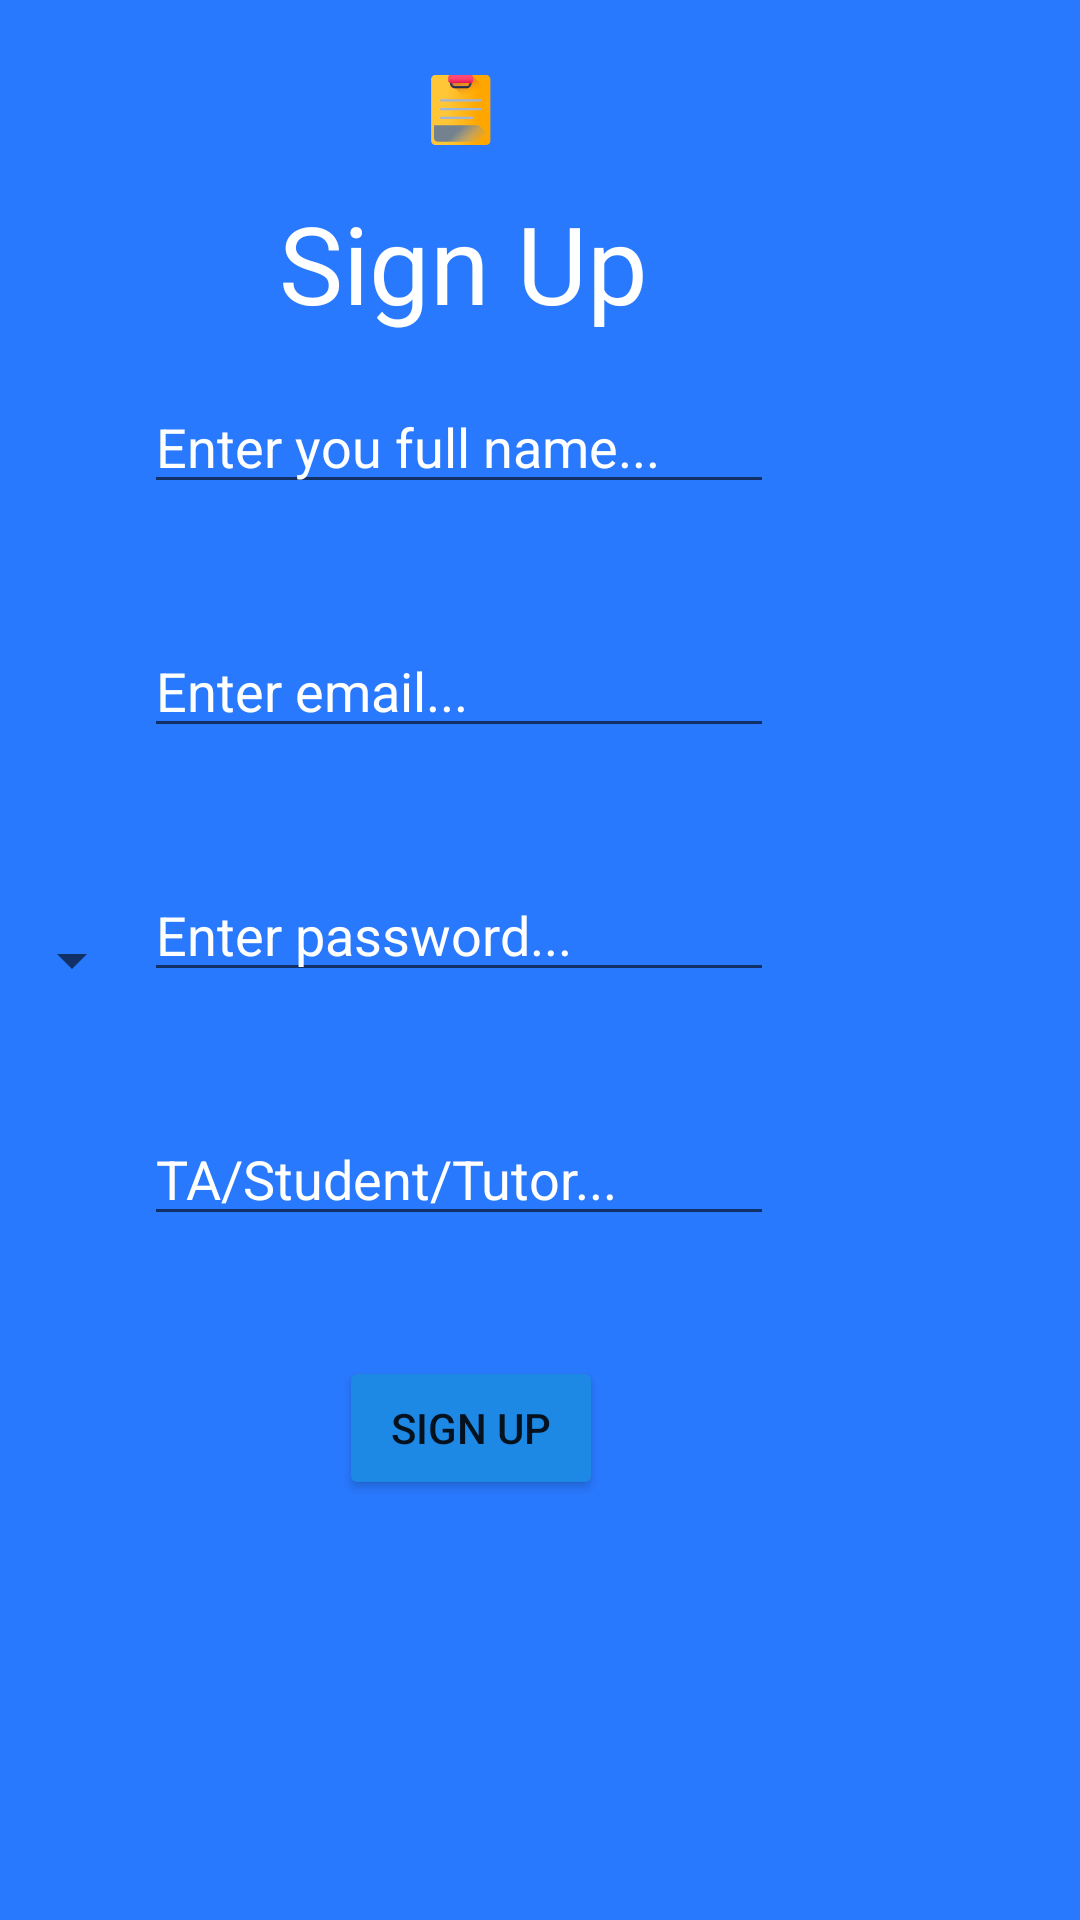

Locate icon controls on the screen. Image size 1080x1920, boxes as (x1,y1,x2,y2).
register: (431,75,491,145)
